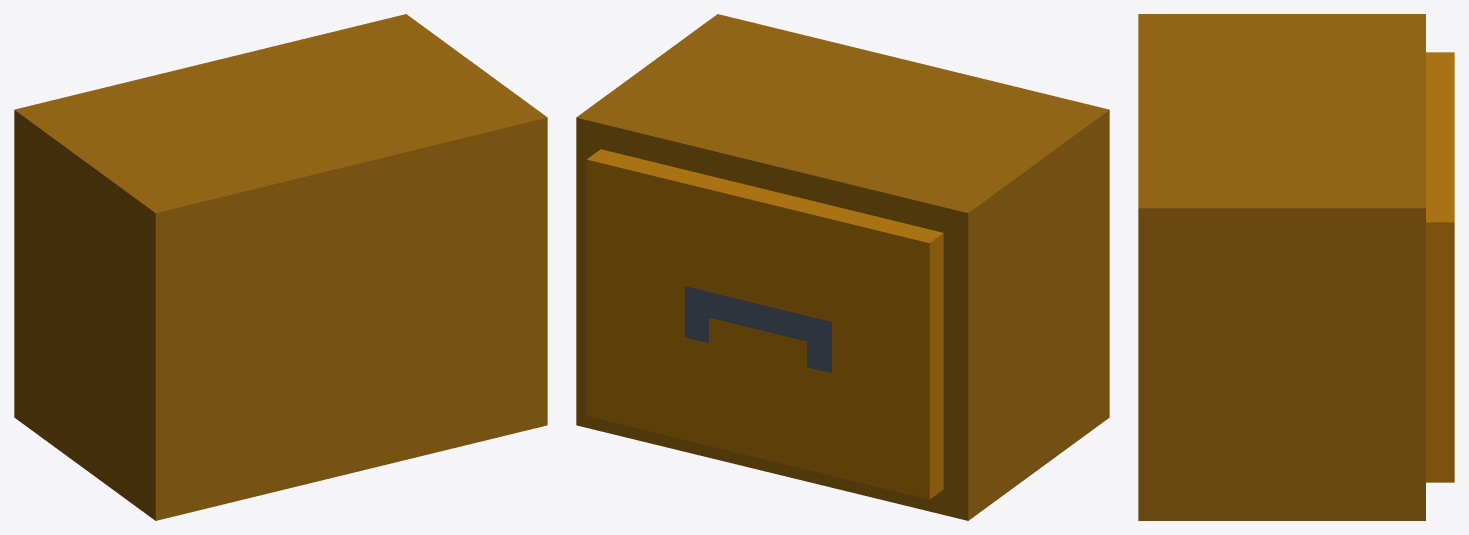
The model's file is drawer.gltf.
The picture shows the model from 3 angles, left to right: view 1: azimuth 30°, elevation 25°; view 2: azimuth 150°, elevation 25°; view 3: azimuth 270°, elevation 25°; orthographic projection.
Parts seen in each view (by area): view 1: mesh; view 2: mesh (×2); view 3: mesh (×2).
Boxes of the visible parts, box(x1,y1,x2,y2) form: mesh: box(14, 14, 547, 520); mesh (×2): box(576, 14, 1109, 520); mesh (×2): box(1138, 14, 1454, 520).
Bounding box in the file's own units: 1 × 0.75 × 0.6875.
1 material, 1 textured.
